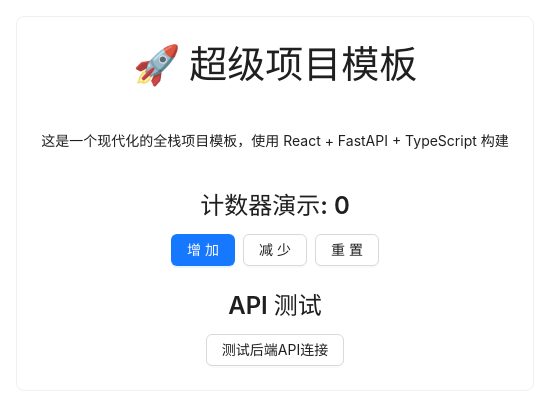
Scenario: App Component › 点击减少按钮应该减少计数器
Click the button "增 加" at (203, 250), box [171,234,235,266]
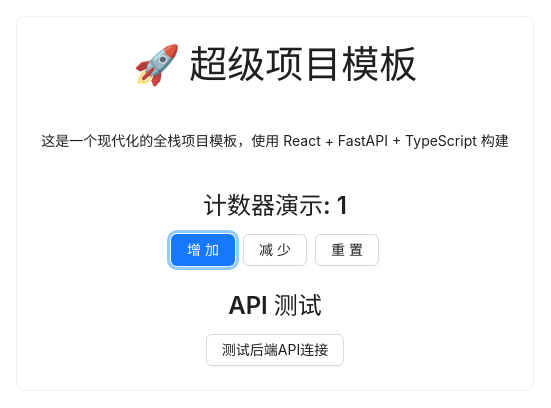
Now the heading "计数器演示: 1" is shown, box [203,191,347,220]
Click the button "减 少" at (275, 250), box [243,234,307,266]
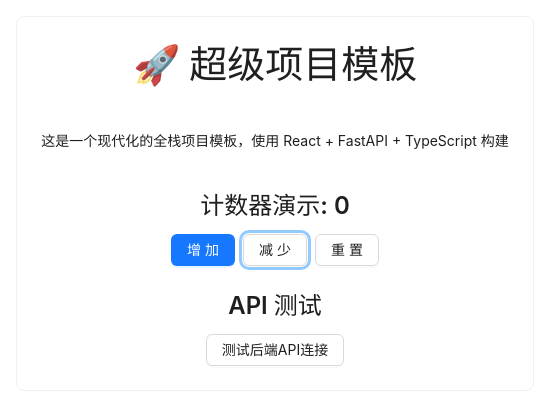
Now the heading "计数器演示: 0" is shown, box [200,191,350,220]
